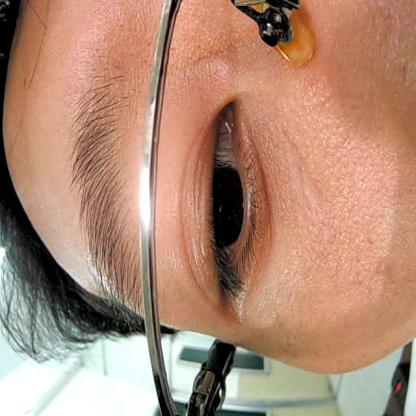Down: (173, 82, 280, 315)
